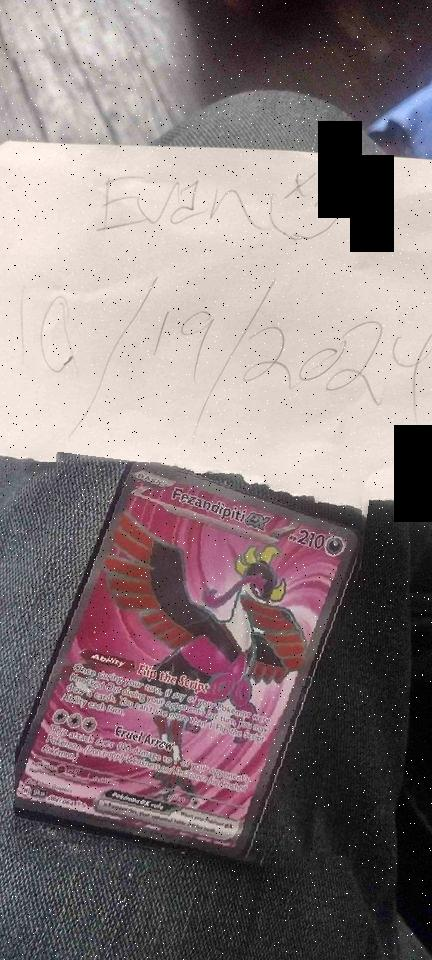card: (15, 462, 361, 860)
